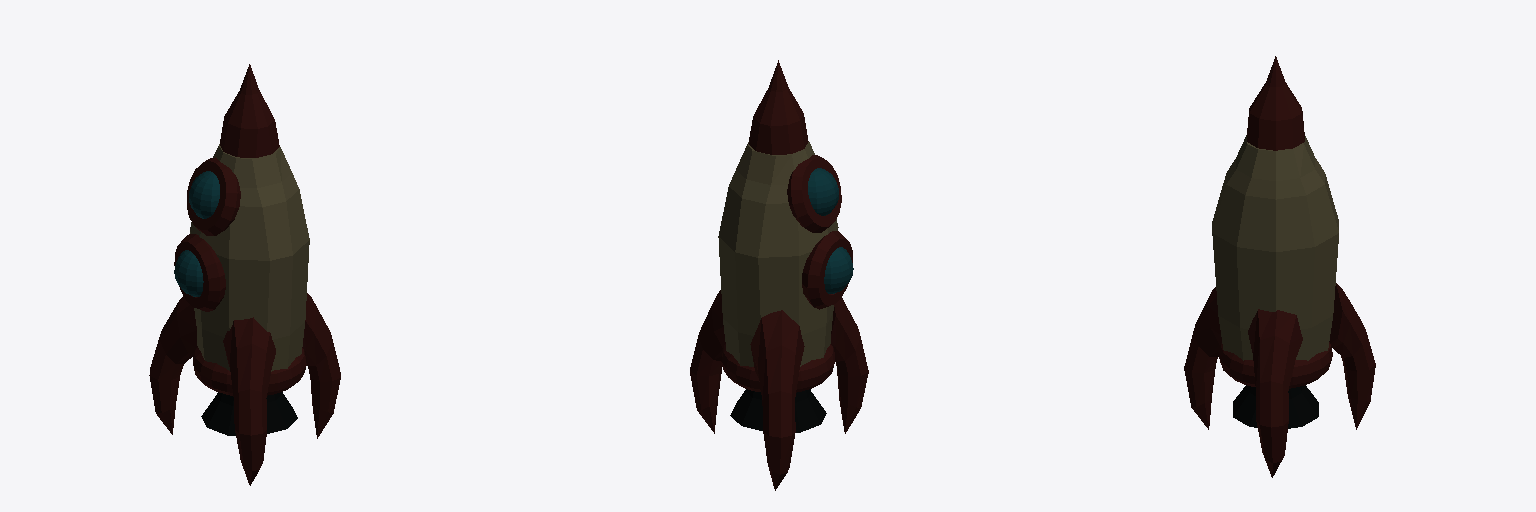
Rendered from TexutreRocketship.obj.
3 renders of one model, left to right at view 1: azimuth 30°, elevation 25°; view 2: azimuth 150°, elevation 25°; view 3: azimuth 270°, elevation 25°, orthographic.
Visible parts, largest first — view 1: pCylinder1, pCylinder2 pCylinder3 pCylinder4, pasted__pTorus2 group1 pasted__pTorus3, pCone1, pasted__pSphere1 group pasted__pSphere2, pTorus1; view 2: pCylinder1, pCylinder2 pCylinder3 pCylinder4, pasted__pTorus2 group1 pasted__pTorus3, pCone1, pasted__pSphere1 group pasted__pSphere2, pTorus1; view 3: pCylinder1, pCylinder2 pCylinder3 pCylinder4, pCone1, pTorus1.
Part boxes in pixels (x1,y1,x2,y2): pCylinder1: (190, 144, 309, 435); pCylinder2 pCylinder3 pCylinder4: (149, 293, 340, 485); pasted__pTorus2 group1 pasted__pTorus3: (174, 157, 240, 311); pCone1: (220, 64, 279, 157); pasted__pSphere1 group pasted__pSphere2: (174, 171, 219, 296); pTorus1: (193, 347, 306, 395); pCylinder1: (718, 142, 838, 432); pCylinder2 pCylinder3 pCylinder4: (690, 290, 868, 490); pasted__pTorus2 group1 pasted__pTorus3: (787, 155, 852, 309); pCone1: (748, 60, 808, 154); pasted__pSphere1 group pasted__pSphere2: (808, 168, 853, 293); pTorus1: (721, 344, 834, 392); pCylinder1: (1212, 135, 1338, 428); pCylinder2 pCylinder3 pCylinder4: (1184, 283, 1375, 477); pCone1: (1247, 56, 1304, 150); pTorus1: (1219, 342, 1332, 388).
Bounding box in the file's own units: 9 × 21.06 × 9.33.